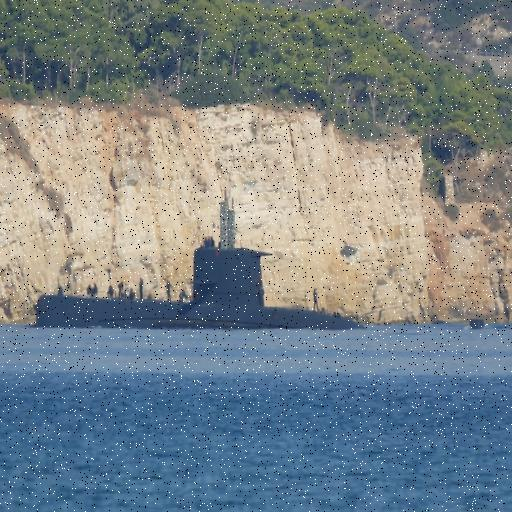submarine: (35, 246, 368, 332)
